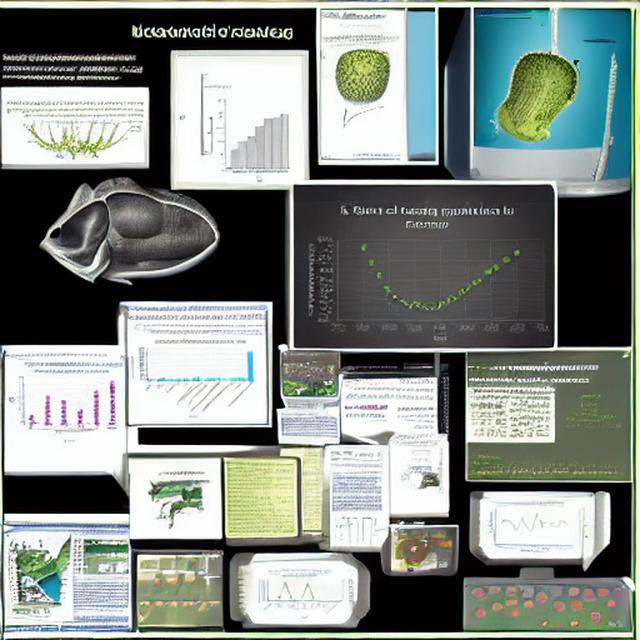Graph: (300, 199, 555, 348), (129, 337, 259, 422), (208, 97, 296, 183), (8, 369, 124, 434), (486, 501, 577, 555), (255, 568, 342, 621)
